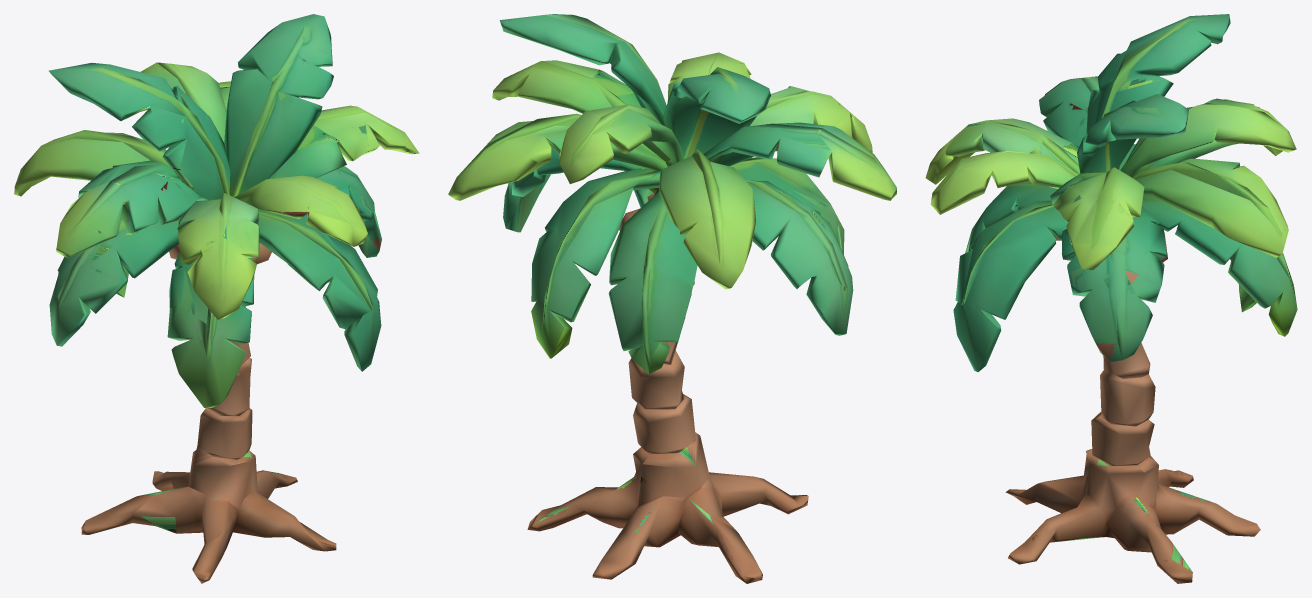
File: palm-cartoon-race-3000.glb
3 views of the same model, side by side, from view 1: azimuth 30°, elevation 25°; view 2: azimuth 150°, elevation 25°; view 3: azimuth 270°, elevation 25° (orthographic). The views are drawn at different scales.
Visible parts, largest first — view 1: model; view 2: model; view 3: model.
Boxes of the visible parts, box(x1,y1,x2,y2) form: model: box(14, 14, 419, 583); model: box(448, 14, 896, 583); model: box(925, 14, 1297, 583).
Bounding box in the file's own units: 1.56 × 1.9 × 1.35.
1 material, 1 textured.
